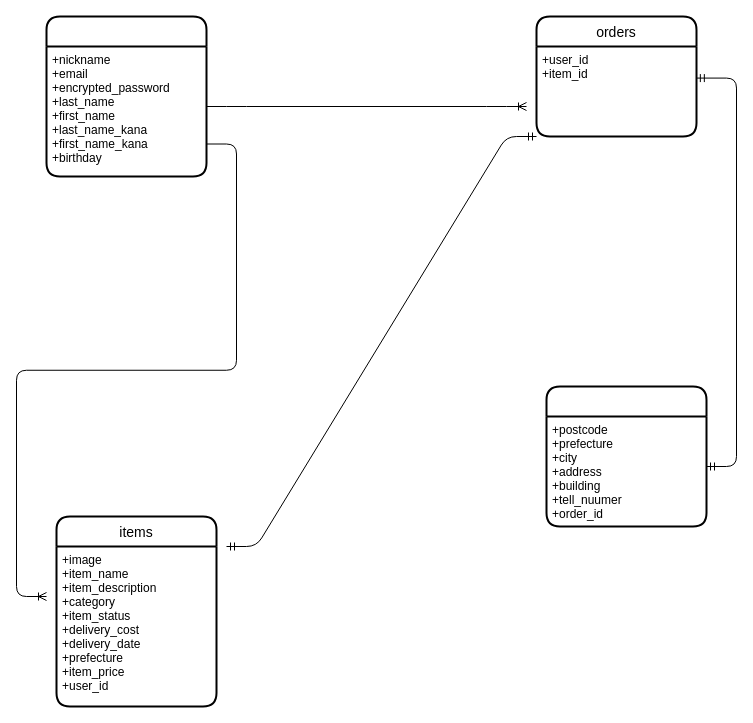
Image size: 753x723. Some labels were removed from this diagram. Here are the shapes that lost their labels. From the top down, the box of each, then its label:
(45, 15, 207, 177): users
(545, 385, 707, 527): deliveries
